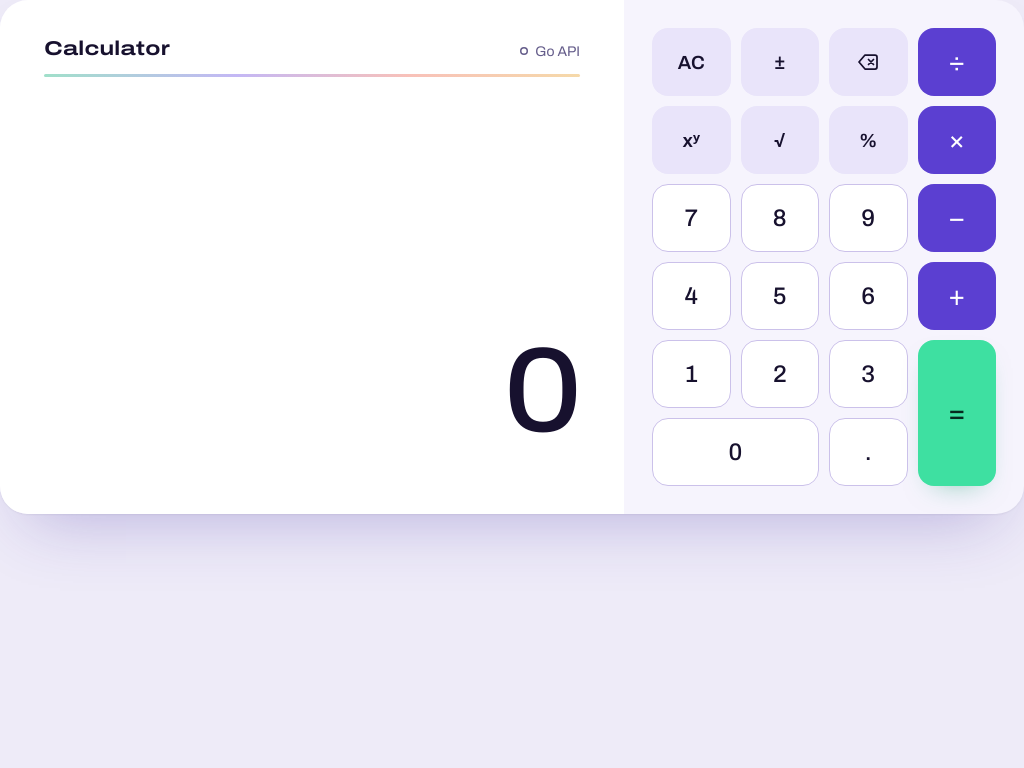
Calculator › calculates with the mouse, using the API for the result
Click the button "1" at (691, 374), box [652, 340, 730, 408]
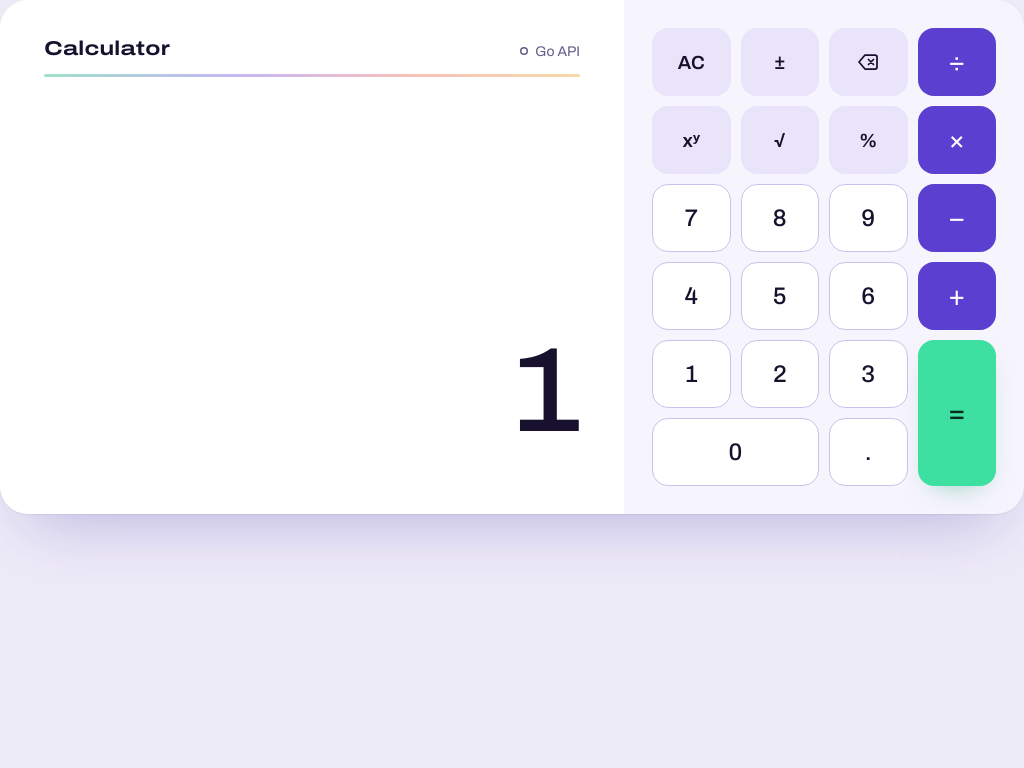
Click the button "2" at (780, 374), box [740, 340, 819, 408]
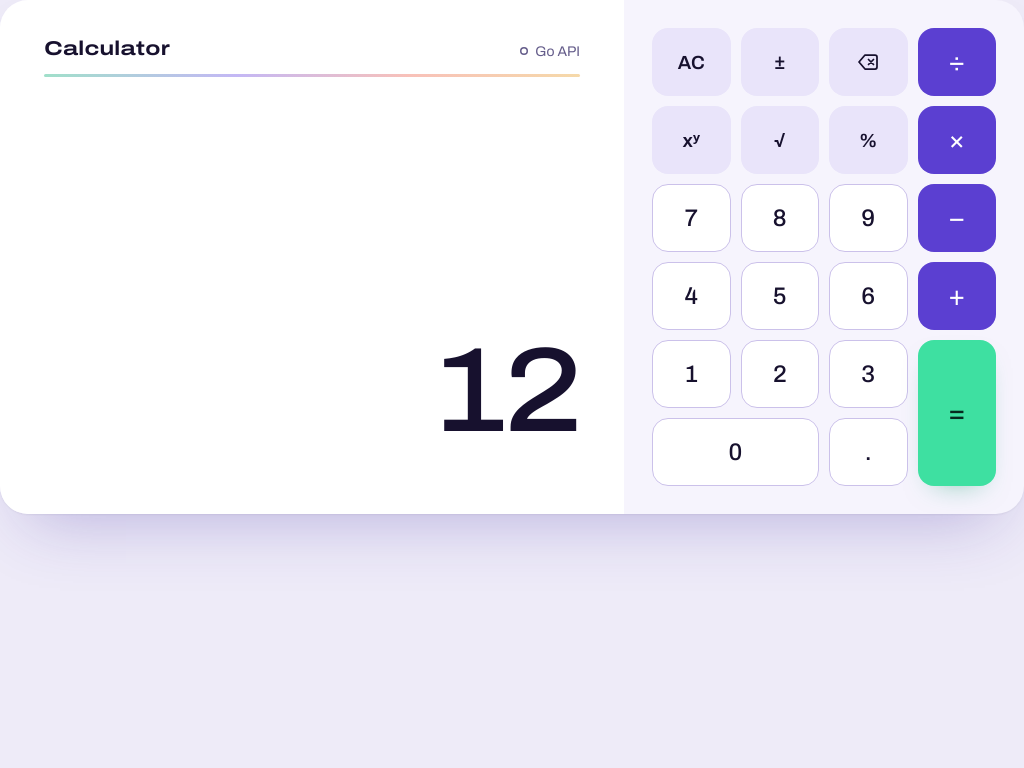
Click the button named "Multiply" at (957, 140), box [918, 106, 996, 174]
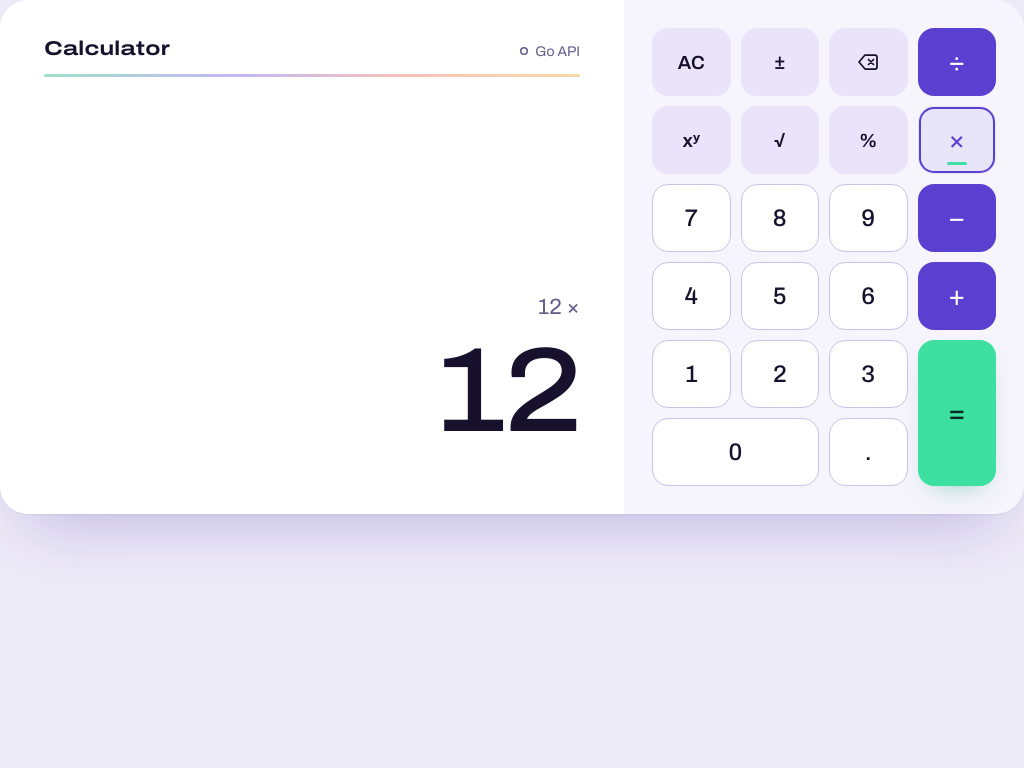
Click the button "3" at (868, 374), box [829, 340, 908, 408]
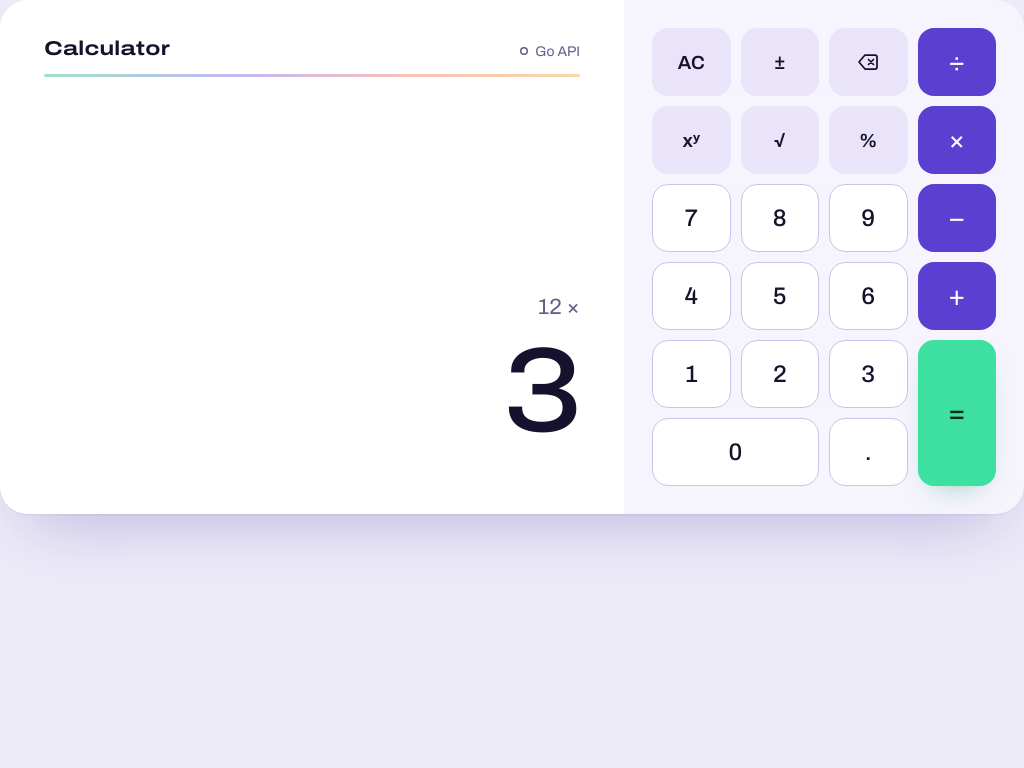
Click the button named "Equals" at (957, 413), box [918, 340, 996, 486]
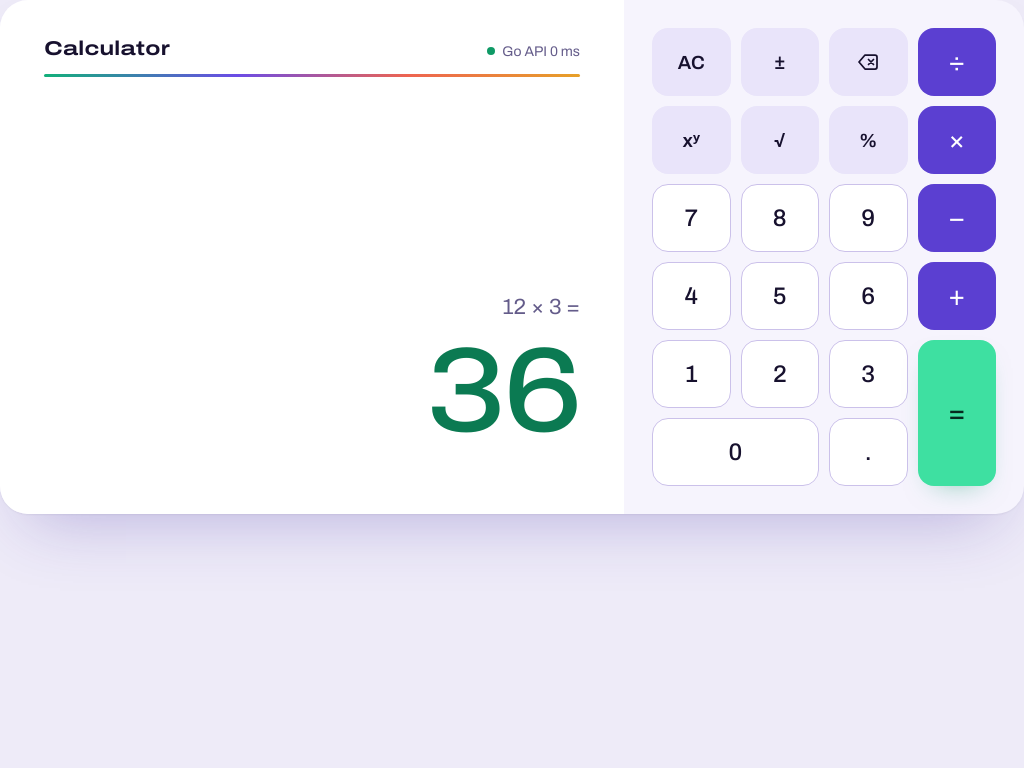
Check: the element with test id "api-status" reads "Go API 0 ms", box [502, 44, 580, 58]
